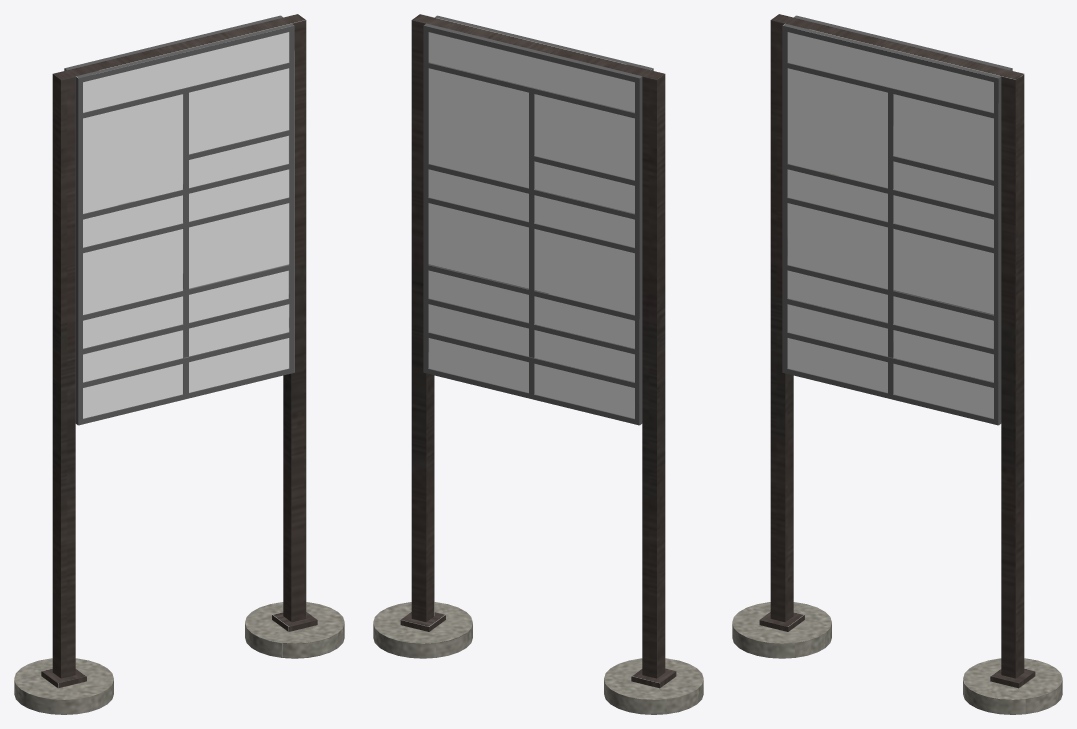
Rendered from 300 Kingston Road Plaza Sign.fbx.
3 renders of one model, left to right at view 1: azimuth 30°, elevation 25°; view 2: azimuth 150°, elevation 25°; view 3: azimuth 330°, elevation 25°, orthographic.
Parts seen in each view (by area): view 1: 300_Kingston_Road_Plaza_Sign_LOD0; view 2: 300_Kingston_Road_Plaza_Sign_LOD0; view 3: 300_Kingston_Road_Plaza_Sign_LOD0.
Part boxes in pixels (left/top/right/bottom): 300_Kingston_Road_Plaza_Sign_LOD0: left=14, top=14, right=344, bottom=714; 300_Kingston_Road_Plaza_Sign_LOD0: left=373, top=14, right=703, bottom=714; 300_Kingston_Road_Plaza_Sign_LOD0: left=732, top=14, right=1062, bottom=714.
Size of what is drawn, in the model's own units: 330 by 615 by 90.
1 material, 1 textured.
